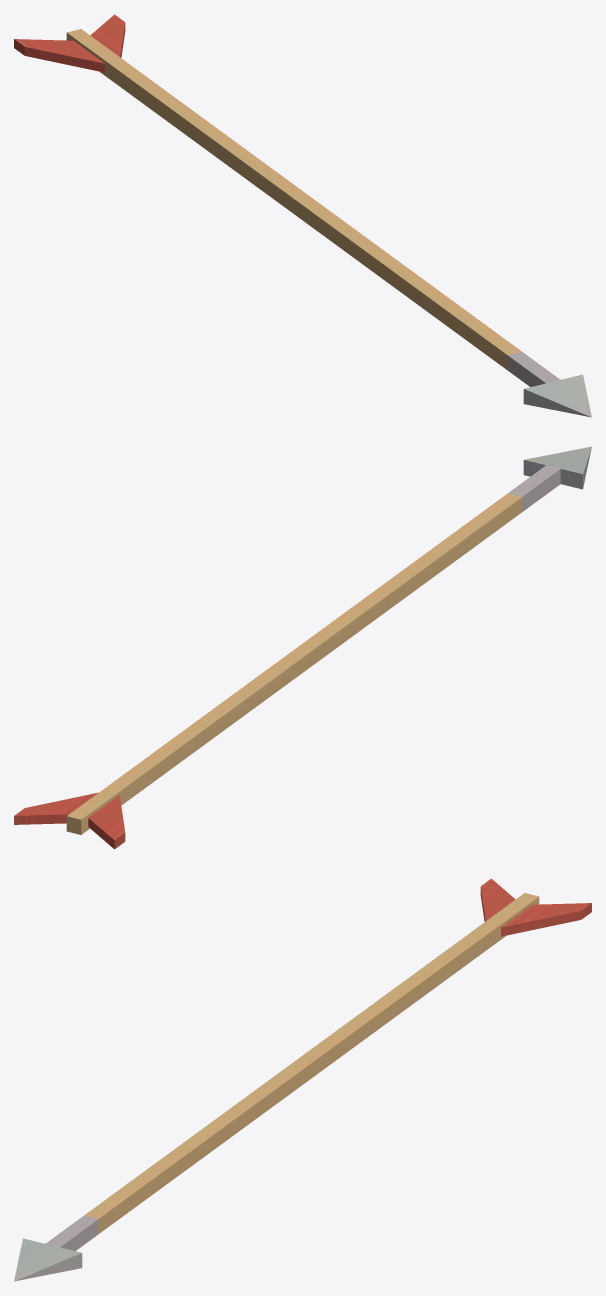
File: fletxatest.glb
3 views of the same model, one above another, from view 1: azimuth 30°, elevation 25°; view 2: azimuth 150°, elevation 25°; view 3: azimuth 330°, elevation 25° (orthographic).
Parts seen in each view (by area): view 1: ARROW_Cube.033; view 2: ARROW_Cube.033; view 3: ARROW_Cube.033.
Part boxes in pixels (x1,y1,x2,y2): ARROW_Cube.033: (14, 14, 591, 417); ARROW_Cube.033: (14, 446, 591, 849); ARROW_Cube.033: (14, 878, 591, 1281).
Size of the model in its own units: 0.0714 by 0.0104 by 0.649.
1 material, 1 textured.
